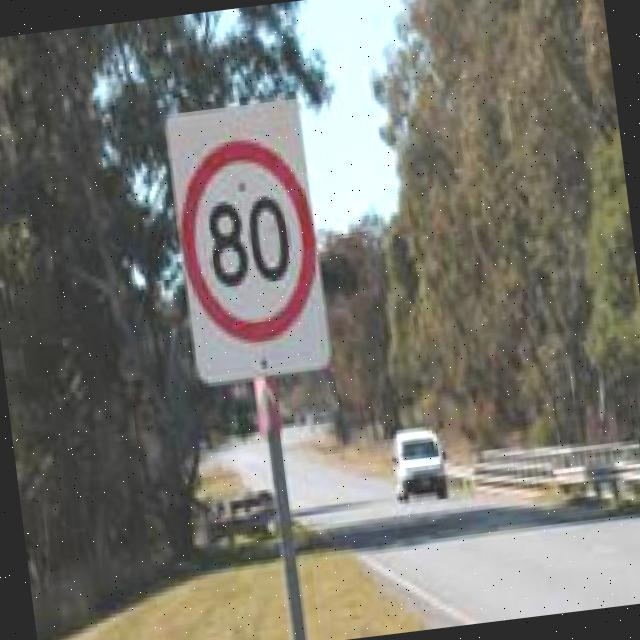Ograniczenie predkosci do 80: (170, 132, 328, 353)
